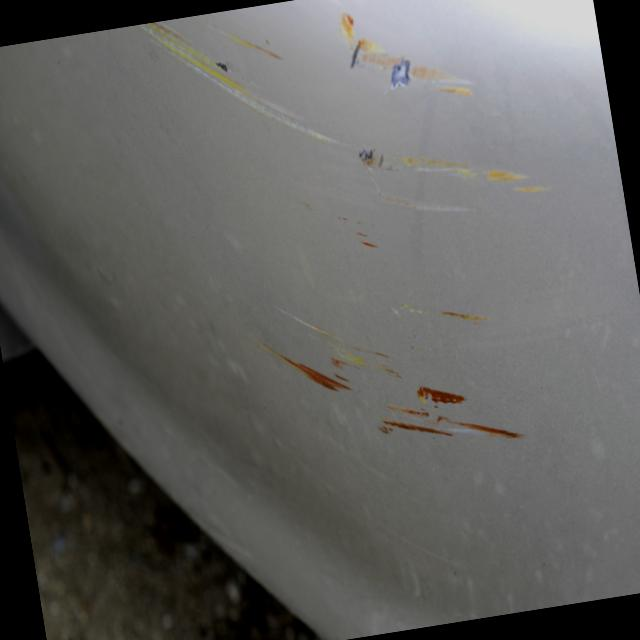Rayure: (234, 249, 528, 490), (358, 119, 562, 260), (296, 189, 386, 268)
